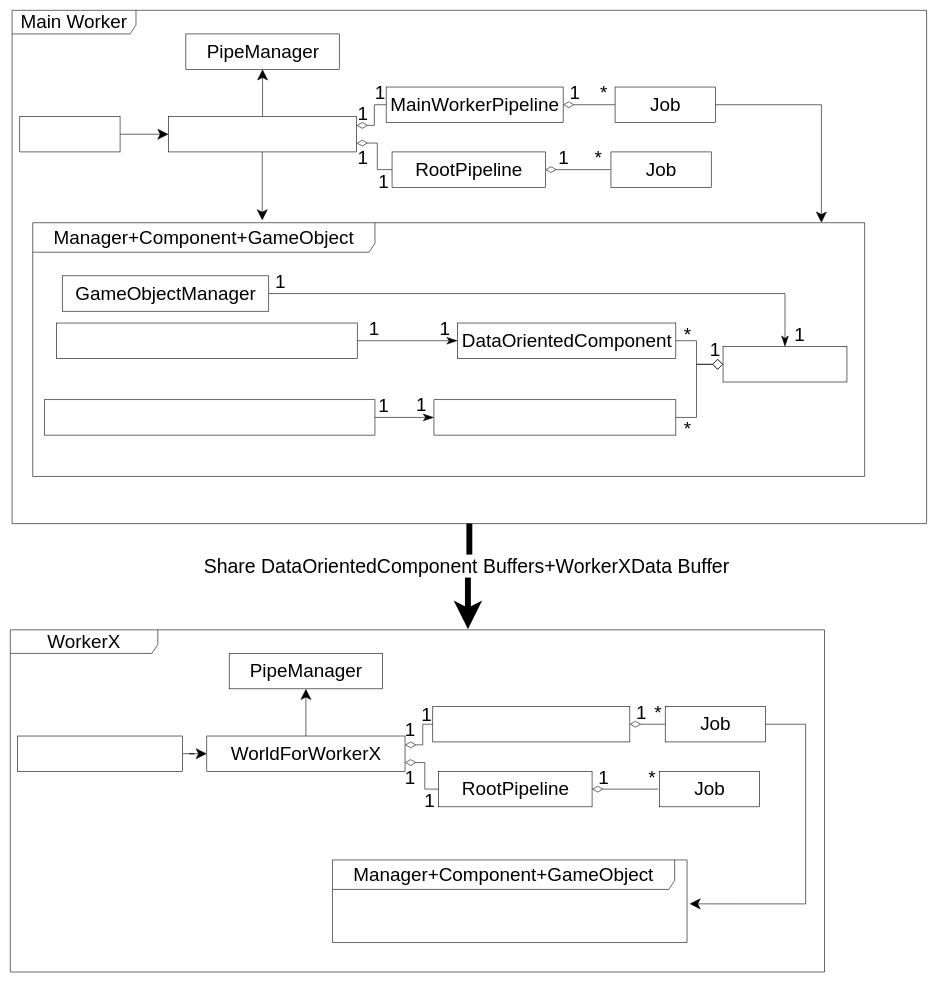
This 937x982 diagram has some shape labels left out. Each missing label, with the centre of its shape:
"Client" goes at (69,134).
"DataOrientedComponentManager" goes at (206,340).
"GameObject" goes at (784,364).
"OtherComponent" goes at (554,417).
"OtherComponentManager" goes at (209,417).
"WorkerXMain" goes at (100,753).
"WorkerXPipeline" goes at (531,724).
"WorldForMainWorker" goes at (262,134).
